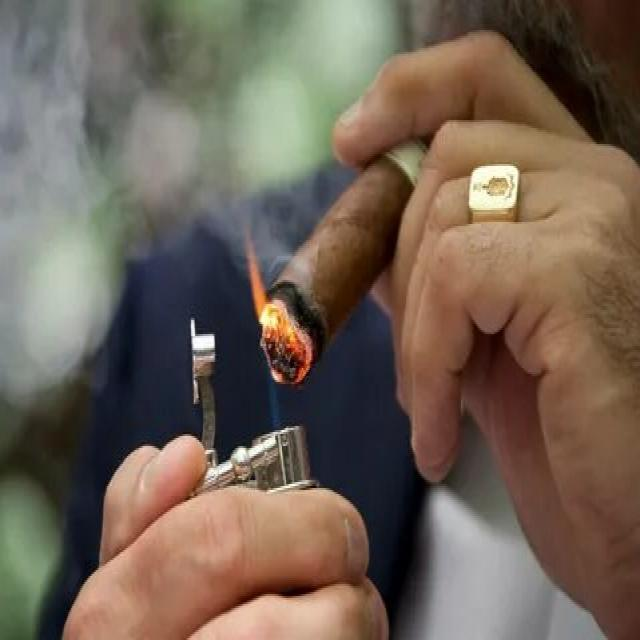cigarette: (260, 126, 437, 392)
